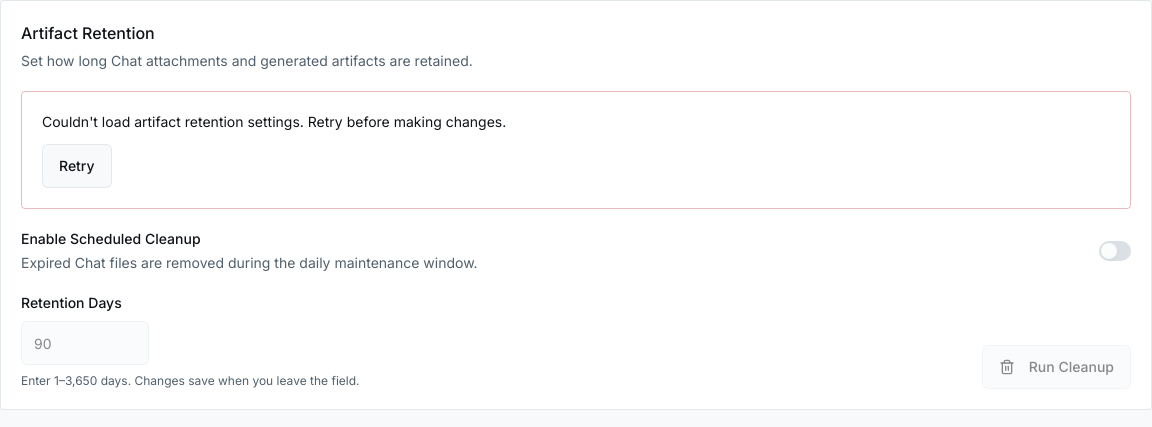
Scenario: ArtifactRetentionSettings › keeps unavailable settings disabled until a successful retry
The width and height of the screenshot is (1152, 427).
Expected: the message "Couldn't load artifact retention settings. Retry before making changes. Retry" is shown, 21,91 -> 1131,209
Expected: the switch named "Enable Scheduled Cleanup" is disabled, 1099,241 -> 1131,261
Click the button "Retry": (77, 166) 42,144 -> 112,188
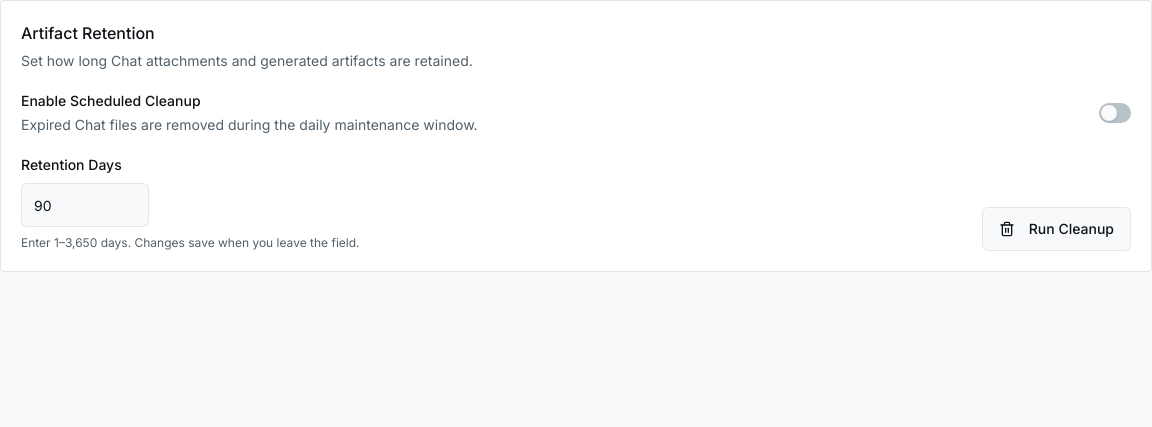
Result: the switch named "Enable Scheduled Cleanup" is enabled at 1099,103 -> 1131,123
